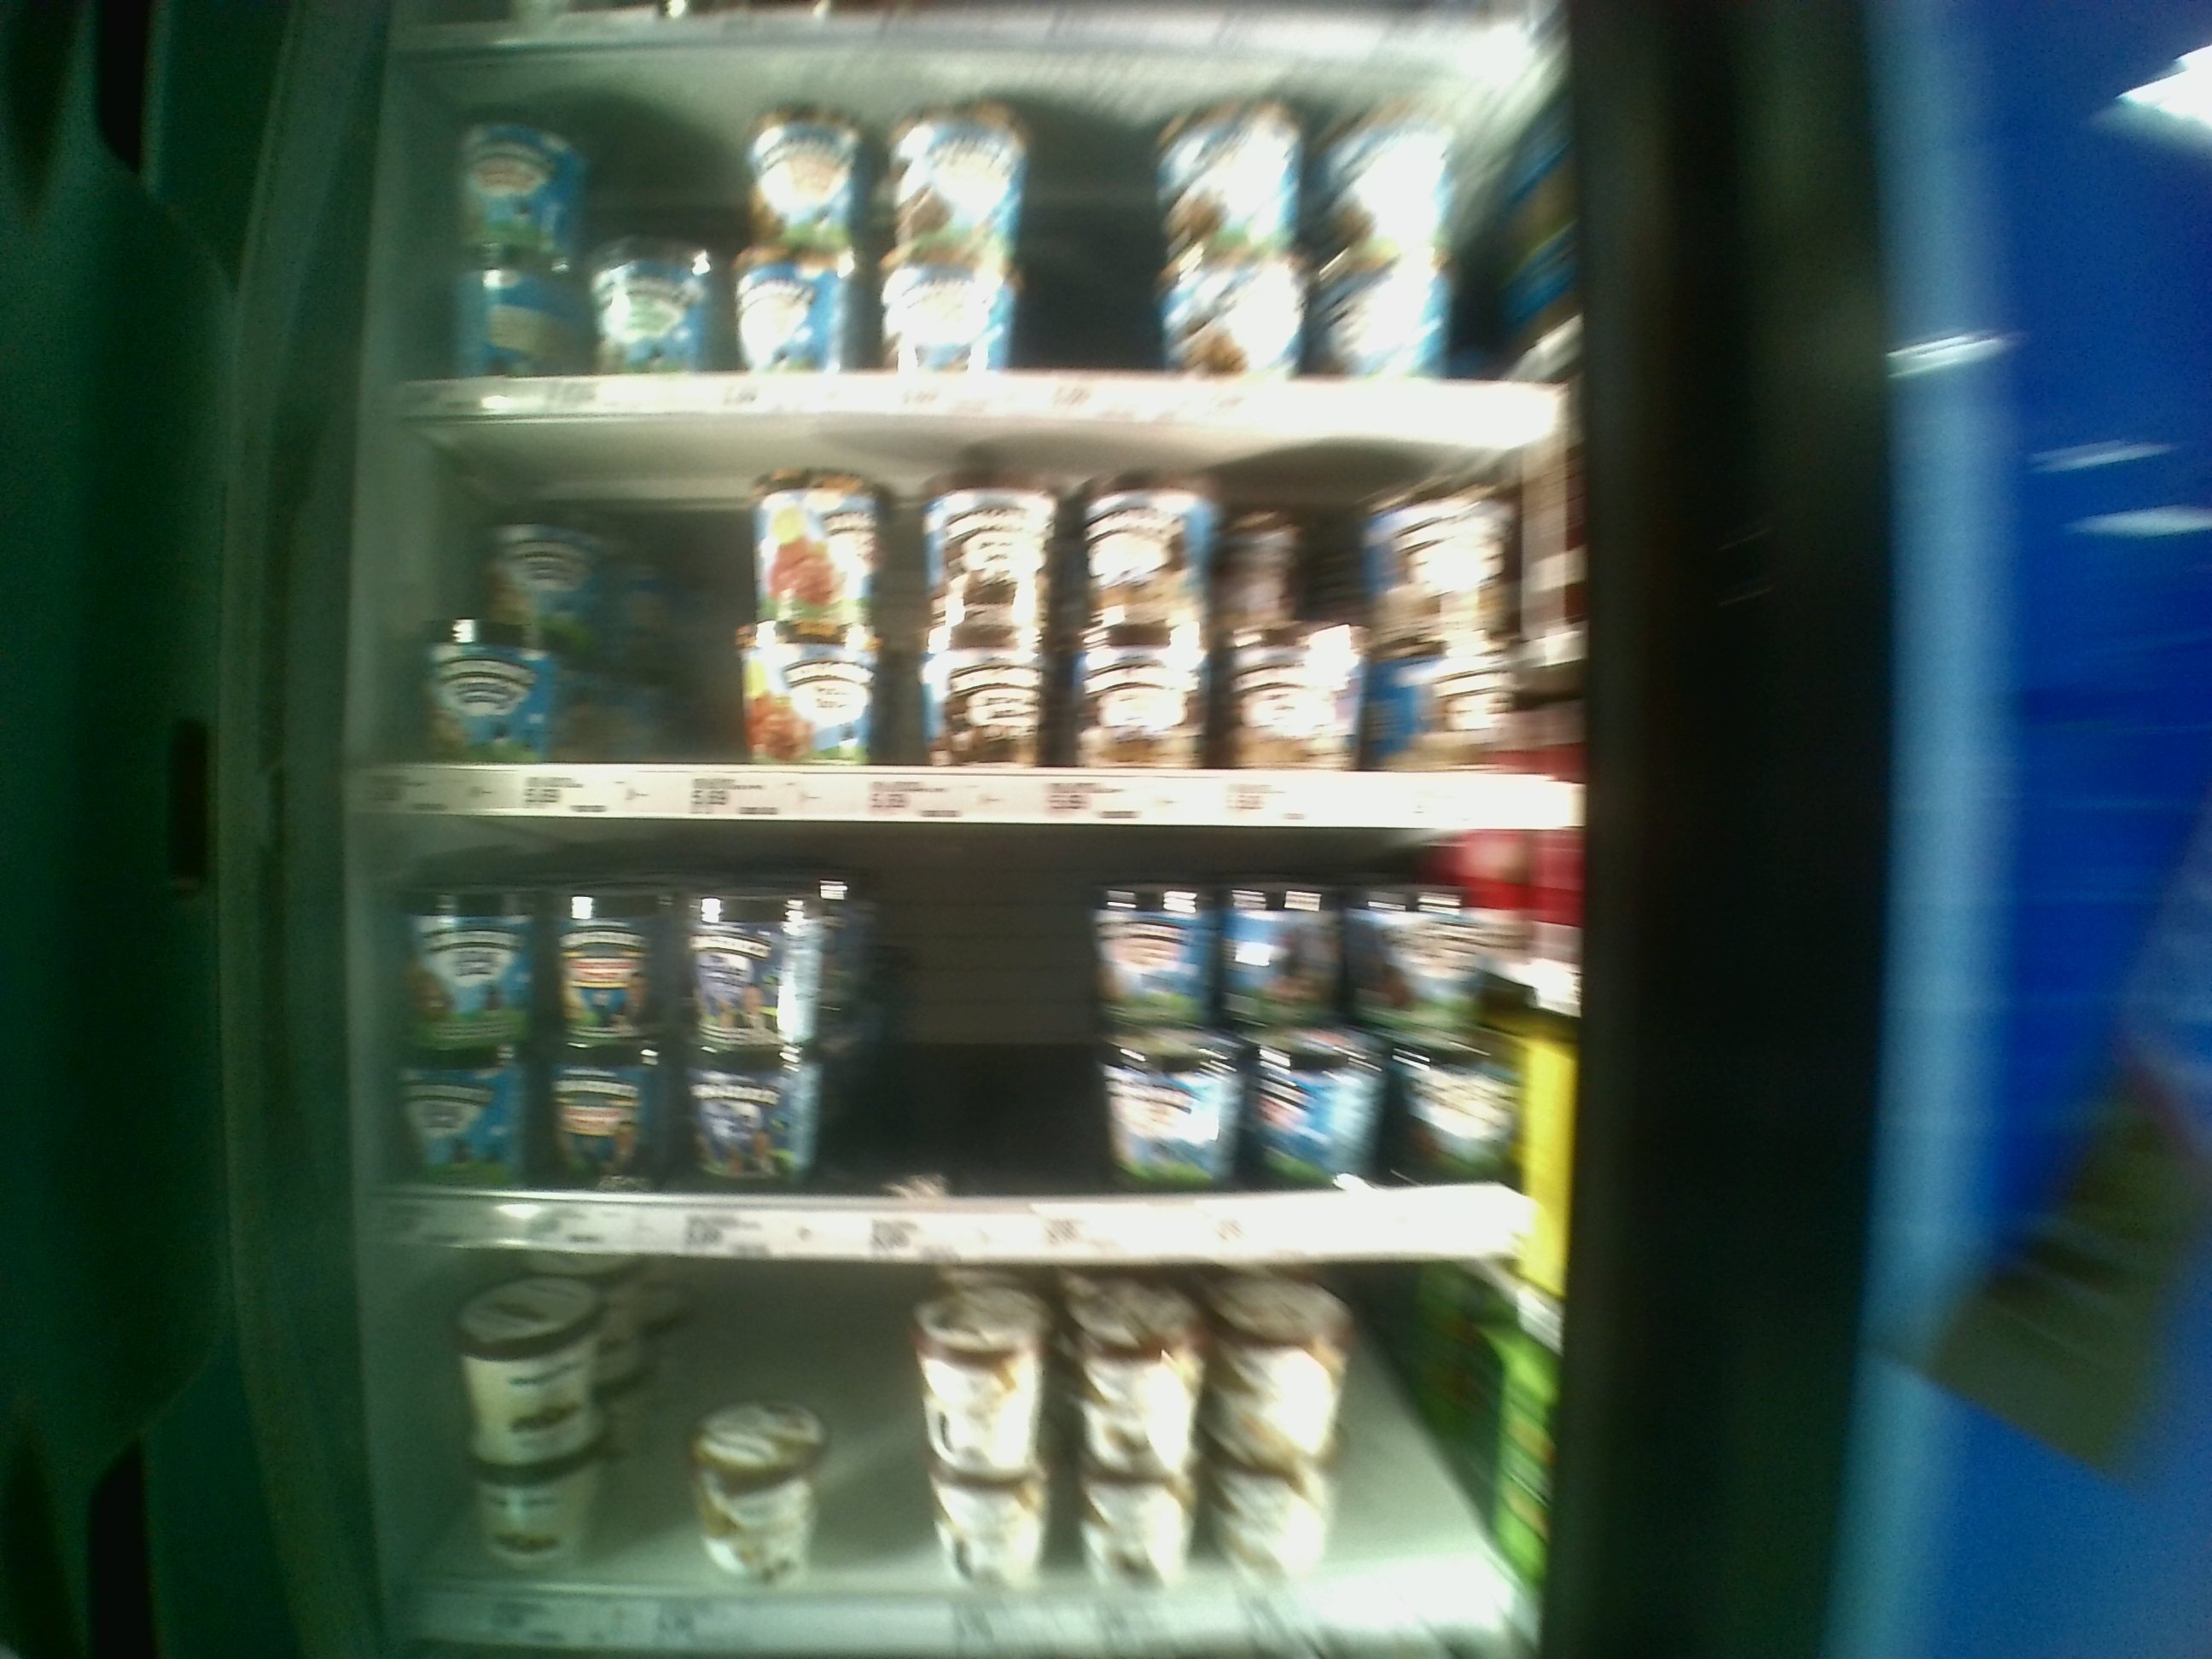shelf: (361, 824, 1566, 1260), (355, 416, 1578, 819), (359, 1248, 1541, 1647)
